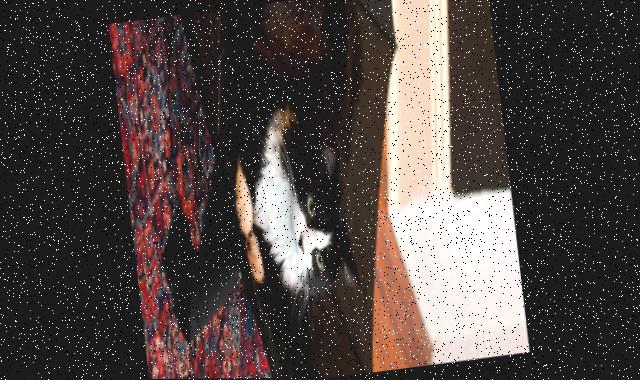cat: (198, 0, 413, 347)
